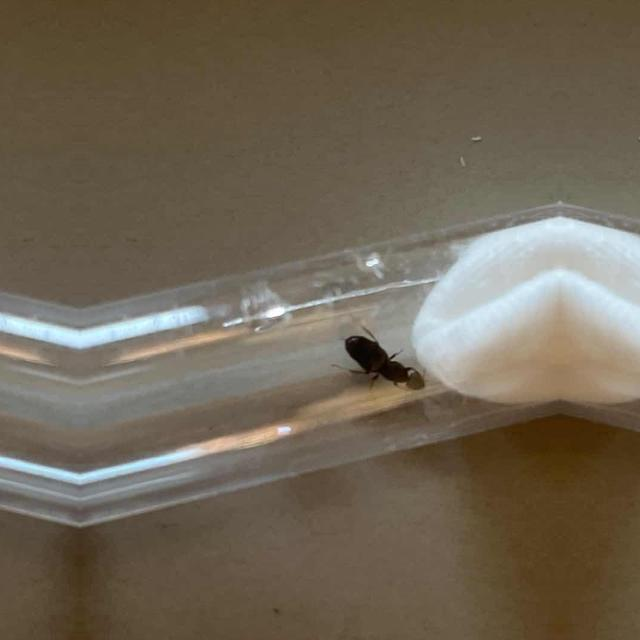Lasius: (334, 319, 436, 403)
